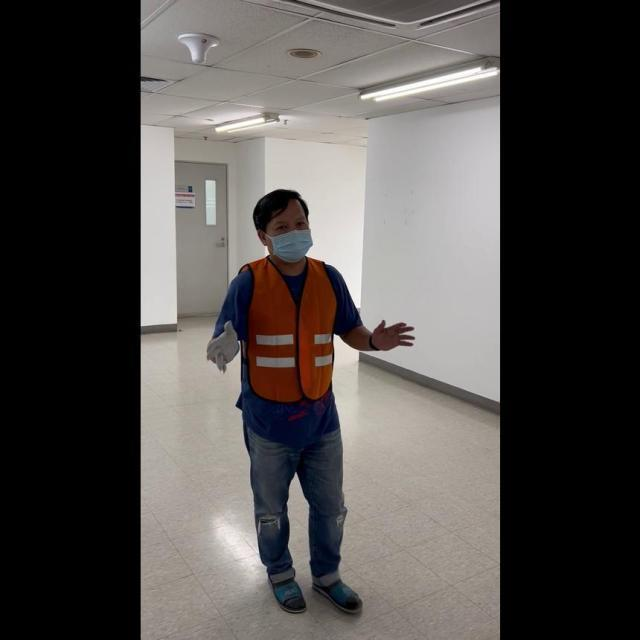bare_hand: (370, 315, 415, 352)
gloved_hand: (205, 316, 239, 374)
